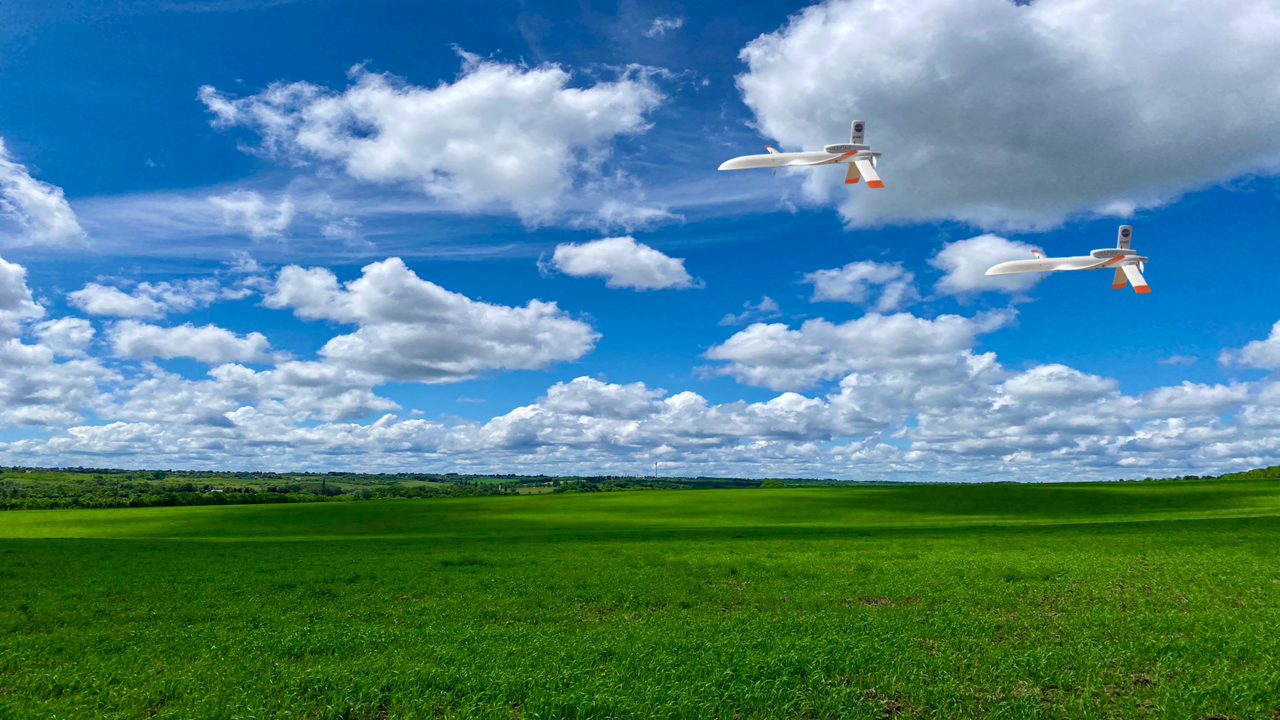military drone: (717, 120, 884, 188), (984, 224, 1151, 292)
